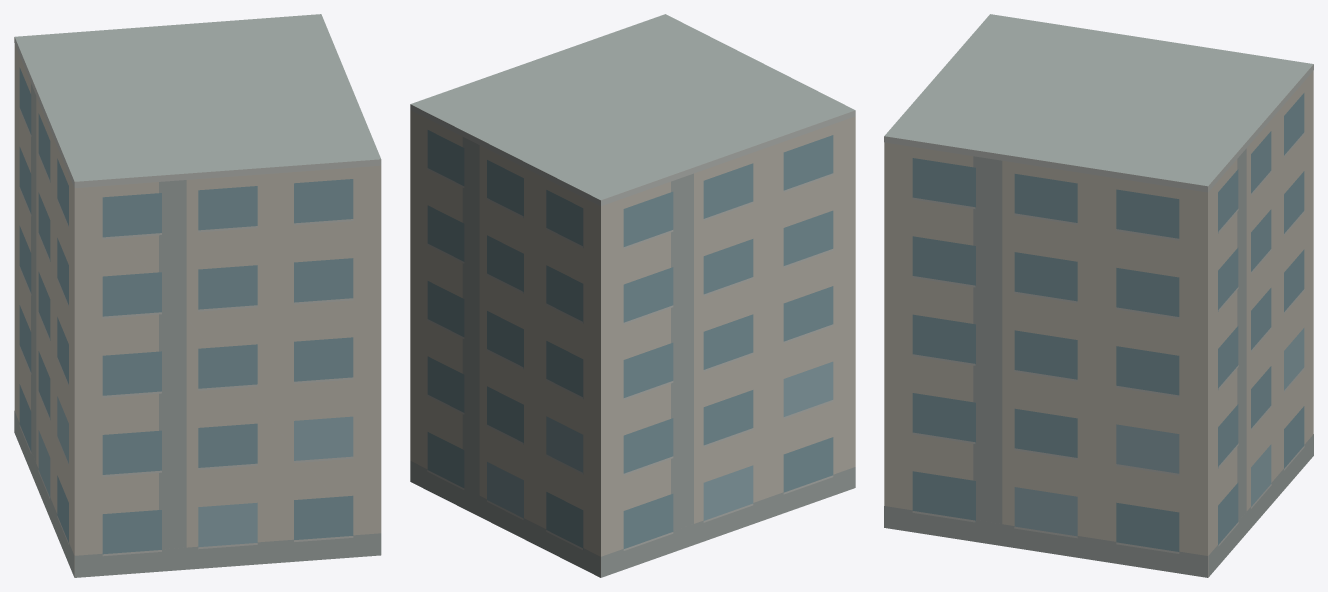
Rendered from residential-24cbaf96-189b-492a-b97d-cdf641fde55c.glb.
3 renders of one model, left to right at view 1: azimuth 30°, elevation 25°; view 2: azimuth 150°, elevation 25°; view 3: azimuth 270°, elevation 25°, orthographic. The views are drawn at different scales.
Parts seen in each view (by area): view 1: residential-24cbaf96-189b-492a-b97d-cdf641fde55c.tmp; view 2: residential-24cbaf96-189b-492a-b97d-cdf641fde55c.tmp; view 3: residential-24cbaf96-189b-492a-b97d-cdf641fde55c.tmp.
Part boxes in pixels (x1,y1,x2,y2): residential-24cbaf96-189b-492a-b97d-cdf641fde55c.tmp: (14, 14, 381, 577); residential-24cbaf96-189b-492a-b97d-cdf641fde55c.tmp: (410, 14, 855, 577); residential-24cbaf96-189b-492a-b97d-cdf641fde55c.tmp: (884, 14, 1313, 577).
Size of the model in its own units: 14.4 by 15.25 by 15.17.
